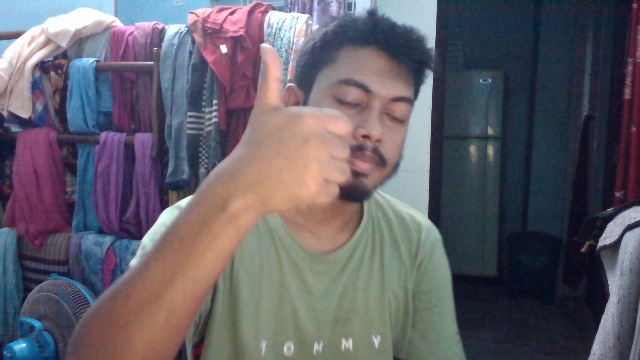yes: (235, 31, 358, 229)
